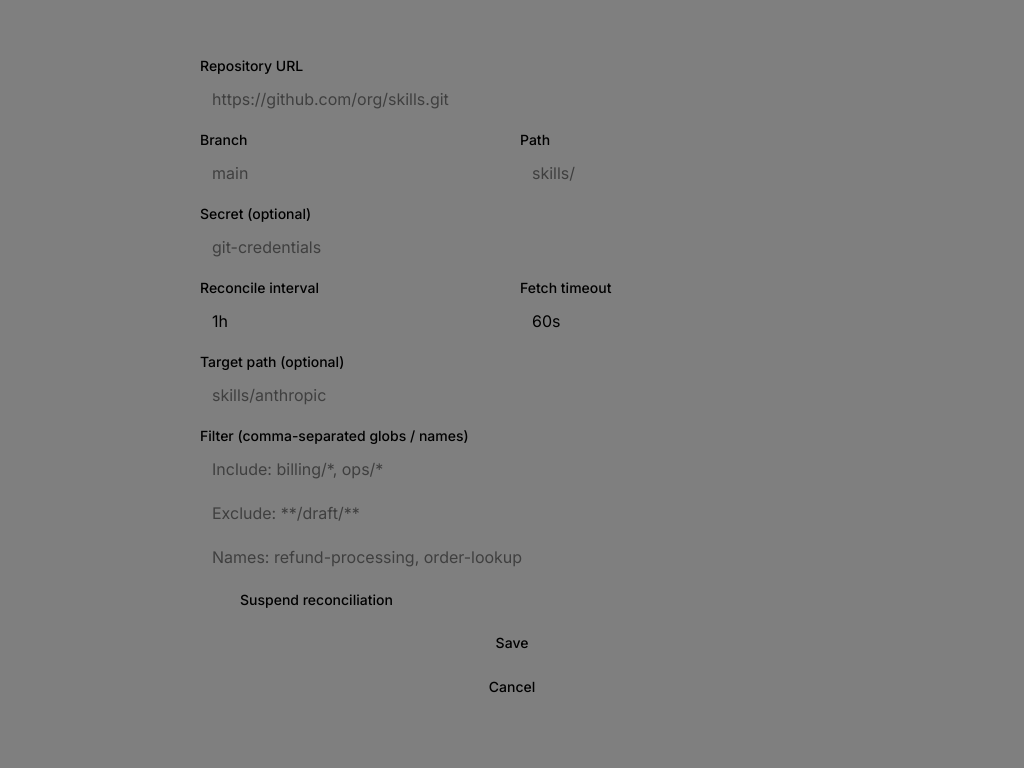
it: SkillSourceDialog › rejects git type without a URL (cross-field check)
(page scrolled)
Click the button "Save" at (512, 644), box [200,626,824,662]
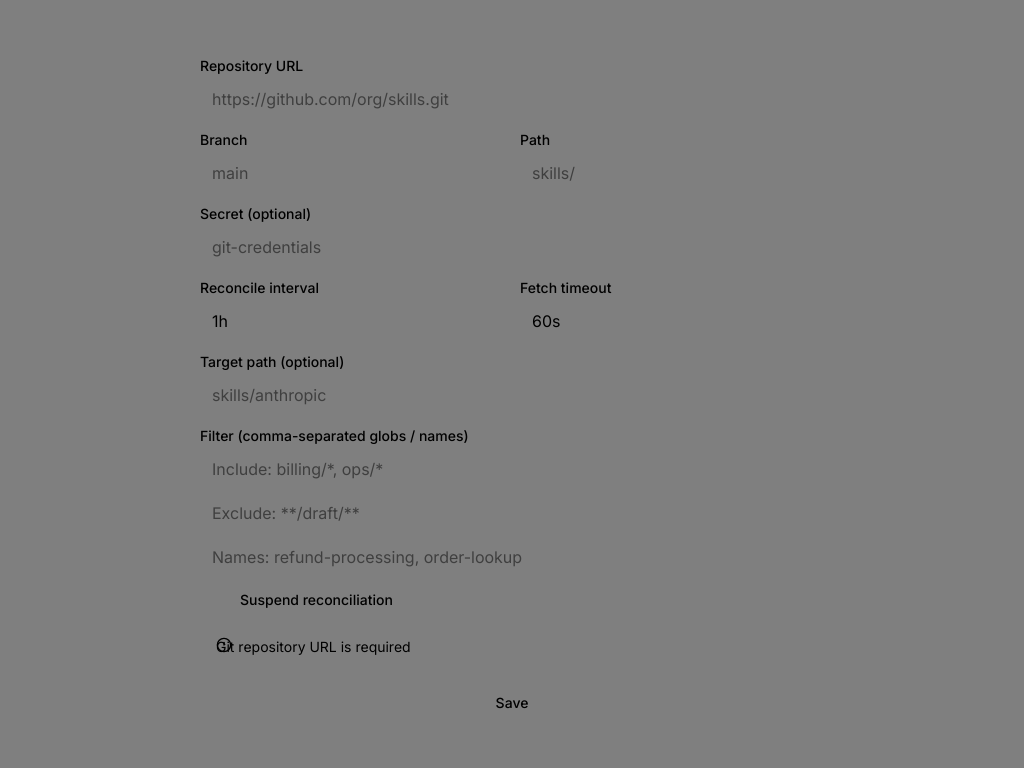
Expected: the text "Git repository URL is required" is shown, [216,639,411,656]
